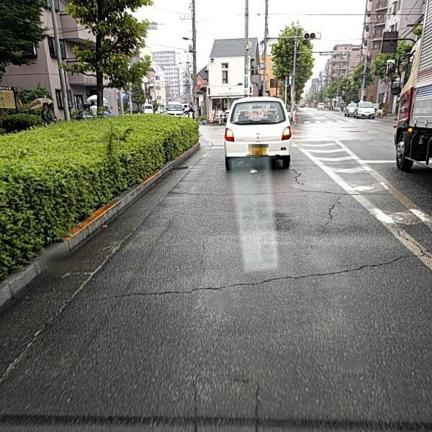Road: (0, 109, 431, 431)
